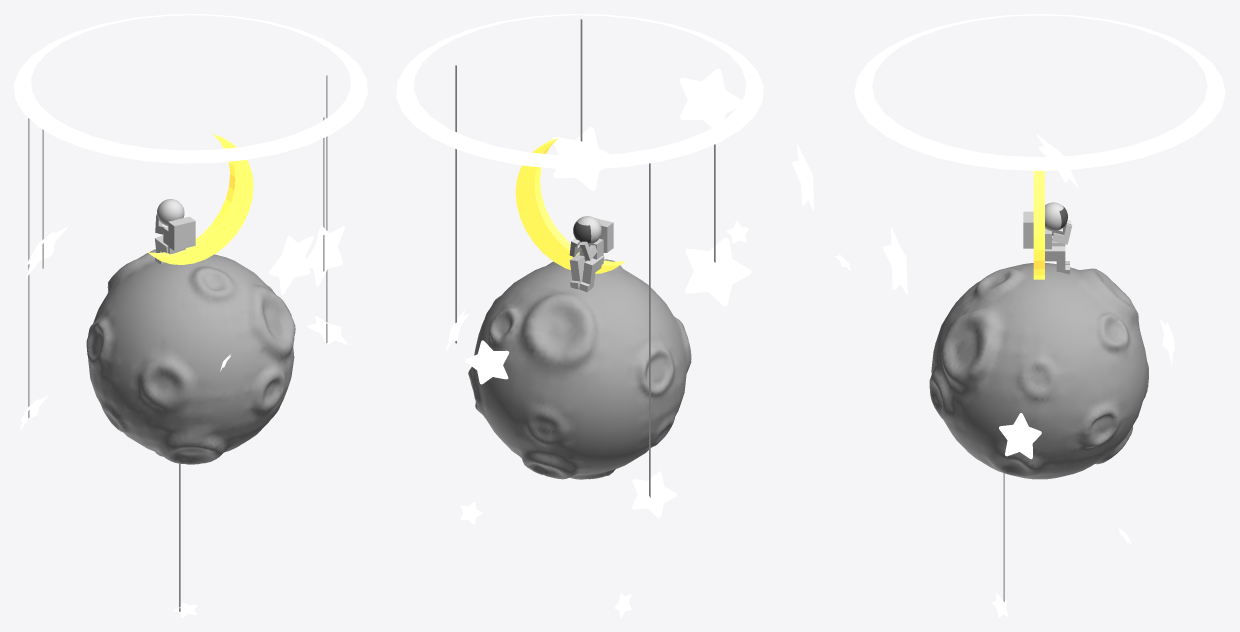
File: MOON1.gltf
3 renders of one model, left to right at view 1: azimuth 30°, elevation 25°; view 2: azimuth 150°, elevation 25°; view 3: azimuth 270°, elevation 25°, orthographic. The views are drawn at different scales.
Parts seen in each view (by area): view 1: 柱体.006; view 2: 柱体.006; view 3: 柱体.006.
Part boxes in pixels (x1,y1,x2,y2): 柱体.006: [14, 14, 367, 617]; 柱体.006: [396, 14, 763, 617]; 柱体.006: [792, 14, 1225, 617].
Size of the model in its own units: 5.33 by 8.28 by 5.99.
